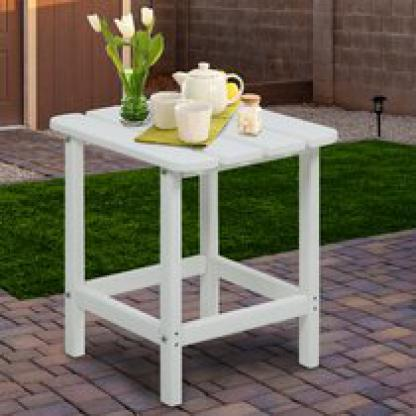table: (48, 76, 342, 410)
